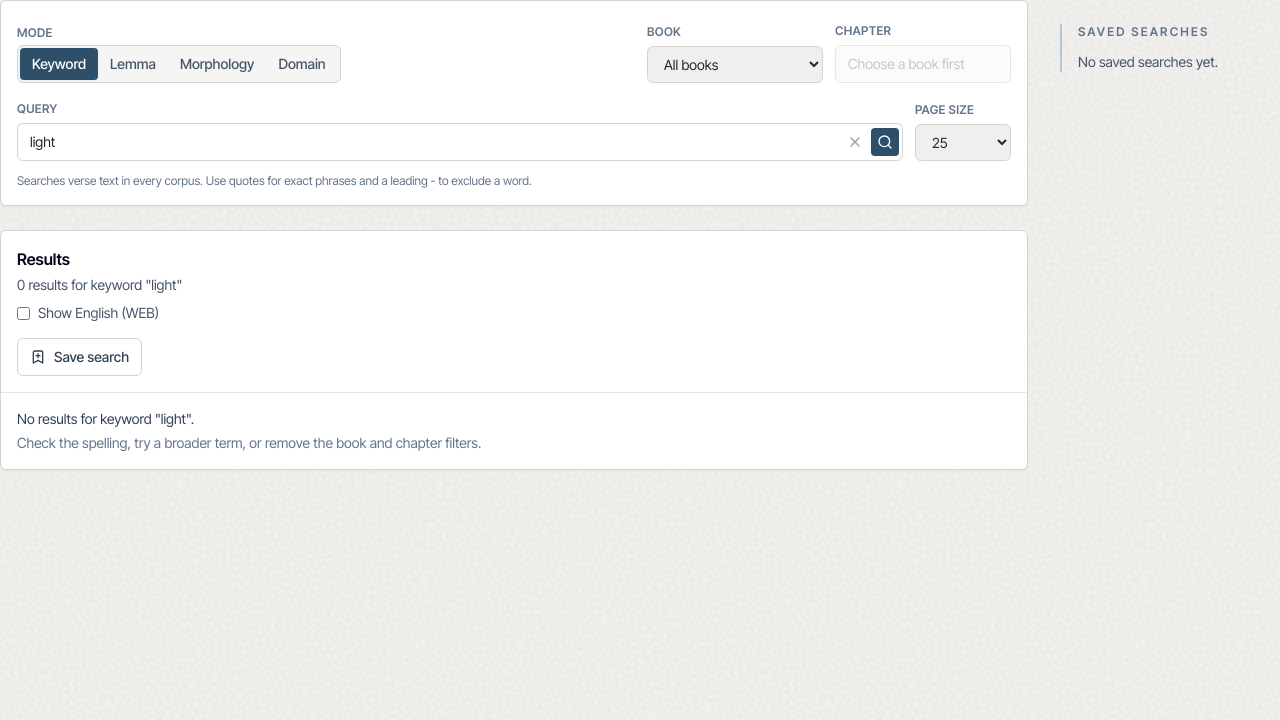
Test: SearchPanel save search payload › normalizes an unknown executed mode to keyword in the save payload
This screenshot has width=1280, height=720.
Step 1. Click the button "Save search" → (80, 356), box [17,338,142,376]
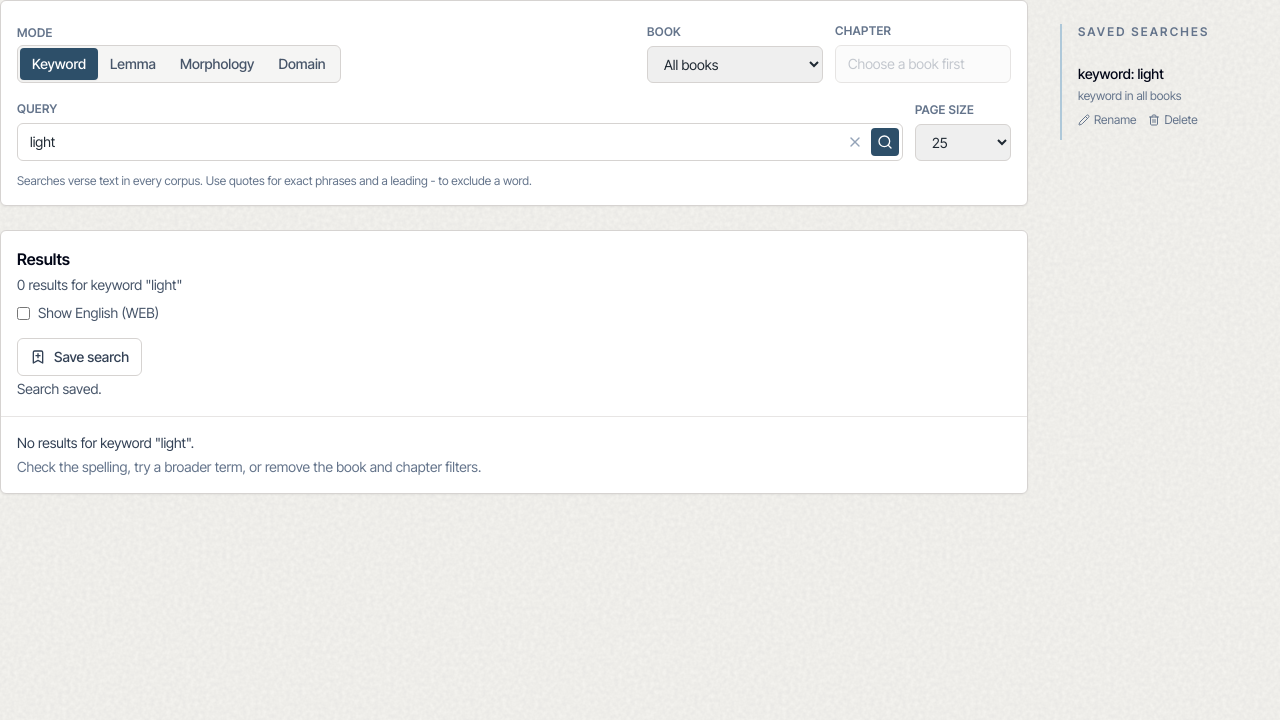
Now the text "Search saved." is shown, box [17,380,102,396]
